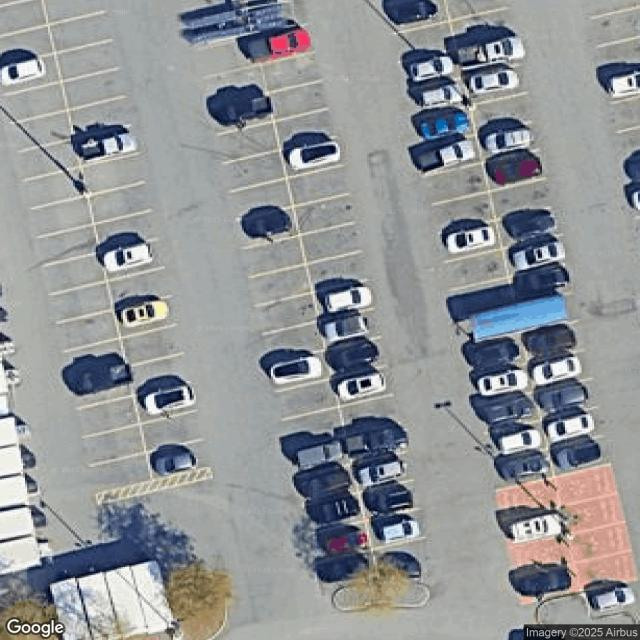car: (458, 33, 528, 72), (412, 136, 477, 177), (245, 26, 313, 64), (465, 336, 525, 373), (75, 358, 133, 395), (515, 567, 573, 602), (217, 93, 273, 129), (76, 130, 136, 163), (509, 511, 564, 547), (552, 438, 605, 475), (510, 238, 566, 273), (143, 384, 196, 420), (505, 210, 557, 245), (445, 221, 497, 256), (311, 492, 361, 527), (528, 324, 578, 359), (500, 451, 551, 485), (100, 242, 154, 274), (269, 354, 323, 386), (337, 370, 387, 404), (417, 108, 470, 140), (532, 353, 583, 386), (517, 265, 569, 297), (303, 470, 354, 502), (322, 312, 371, 345), (288, 140, 340, 171), (317, 527, 368, 558), (405, 52, 456, 83), (357, 456, 406, 488), (495, 427, 544, 459), (246, 209, 292, 243), (318, 553, 368, 584), (331, 340, 379, 372), (491, 156, 542, 186), (152, 448, 199, 480), (295, 441, 345, 471), (322, 286, 372, 316), (483, 397, 533, 427), (469, 67, 519, 97), (346, 432, 397, 460), (589, 585, 636, 615), (477, 369, 527, 397), (546, 415, 596, 442), (537, 384, 587, 411), (0, 58, 46, 87), (122, 299, 168, 328), (377, 551, 423, 579), (419, 81, 464, 109), (370, 488, 413, 517), (485, 127, 532, 153), (379, 517, 422, 545), (605, 68, 639, 97)
lot_boundary: (0, 0, 639, 639)
objects: (0, 563, 229, 639), (181, 0, 296, 49), (469, 295, 571, 343), (538, 594, 639, 638), (330, 579, 429, 614)
stall: (521, 318, 588, 363), (513, 563, 579, 608), (463, 333, 529, 377), (573, 551, 638, 595), (567, 522, 633, 565), (561, 492, 625, 536), (482, 148, 546, 192), (121, 325, 186, 368), (55, 39, 120, 82), (55, 309, 120, 352), (255, 291, 320, 334), (49, 10, 114, 53), (61, 67, 126, 110), (228, 178, 293, 221), (242, 235, 307, 278), (301, 221, 366, 264), (274, 377, 339, 420), (319, 307, 384, 350), (495, 478, 560, 521), (418, 132, 483, 175), (411, 104, 476, 147), (489, 177, 554, 220), (475, 119, 540, 162), (443, 247, 508, 290), (449, 277, 514, 320), (547, 433, 612, 476), (476, 391, 541, 434), (469, 364, 535, 406), (115, 295, 179, 338), (128, 352, 192, 395), (75, 123, 139, 166), (88, 181, 152, 224), (101, 238, 165, 281), (49, 281, 113, 324), (30, 195, 94, 238), (81, 423, 145, 466), (69, 366, 133, 409), (69, 95, 133, 138), (10, 110, 74, 153), (202, 64, 266, 107), (275, 108, 339, 151), (255, 21, 319, 64), (314, 278, 378, 321), (307, 249, 371, 292), (281, 407, 345, 450), (300, 491, 364, 534), (425, 162, 489, 205), (502, 508, 566, 551), (464, 63, 528, 106), (503, 233, 567, 276), (510, 263, 574, 306), (42, 252, 107, 294), (74, 395, 139, 437), (24, 166, 89, 208), (221, 150, 286, 192), (287, 164, 352, 206), (496, 207, 561, 249), (535, 378, 600, 420), (542, 407, 607, 449), (282, 136, 345, 179), (490, 448, 553, 491), (291, 463, 357, 504), (140, 410, 204, 452), (82, 153, 146, 195), (94, 210, 158, 252), (108, 266, 172, 308), (36, 224, 100, 266), (62, 338, 126, 380), (18, 138, 82, 180), (4, 82, 68, 124), (209, 94, 273, 136), (196, 35, 260, 77), (267, 79, 331, 121), (261, 51, 325, 93), (248, 264, 312, 306), (294, 193, 358, 235), (236, 208, 300, 250), (326, 337, 390, 379), (261, 322, 325, 364), (339, 395, 403, 437), (331, 364, 395, 406), (431, 192, 495, 234), (437, 220, 501, 262), (470, 92, 534, 134), (392, 21, 456, 63), (451, 7, 515, 49), (555, 464, 617, 507), (133, 382, 198, 423), (266, 351, 331, 392), (308, 520, 371, 562), (458, 35, 521, 77), (486, 420, 549, 462), (529, 350, 593, 391), (85, 453, 150, 493), (284, 438, 350, 477), (215, 123, 279, 163), (507, 537, 571, 577), (147, 439, 209, 480), (0, 53, 60, 95), (398, 51, 464, 89), (345, 425, 409, 464), (359, 479, 419, 520), (366, 508, 424, 550), (404, 78, 469, 115), (313, 550, 374, 589), (352, 455, 413, 493), (371, 537, 425, 579), (582, 581, 639, 618), (591, 5, 639, 48), (385, 1, 449, 33), (594, 36, 639, 74), (42, 0, 107, 23), (600, 67, 639, 103)
